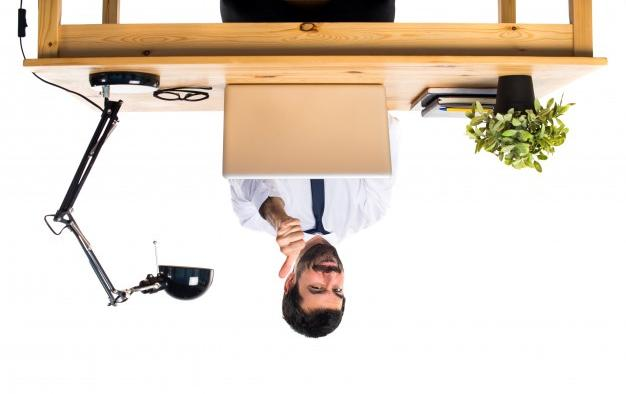thumbsdown: (276, 219, 305, 279)
